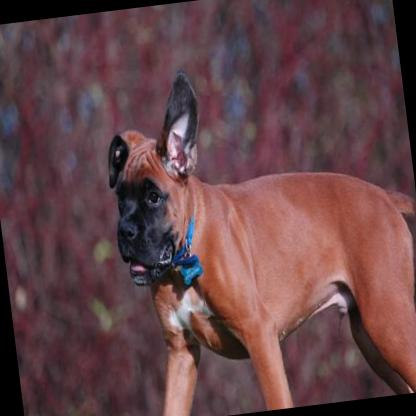boxer: (93, 44, 416, 416)
